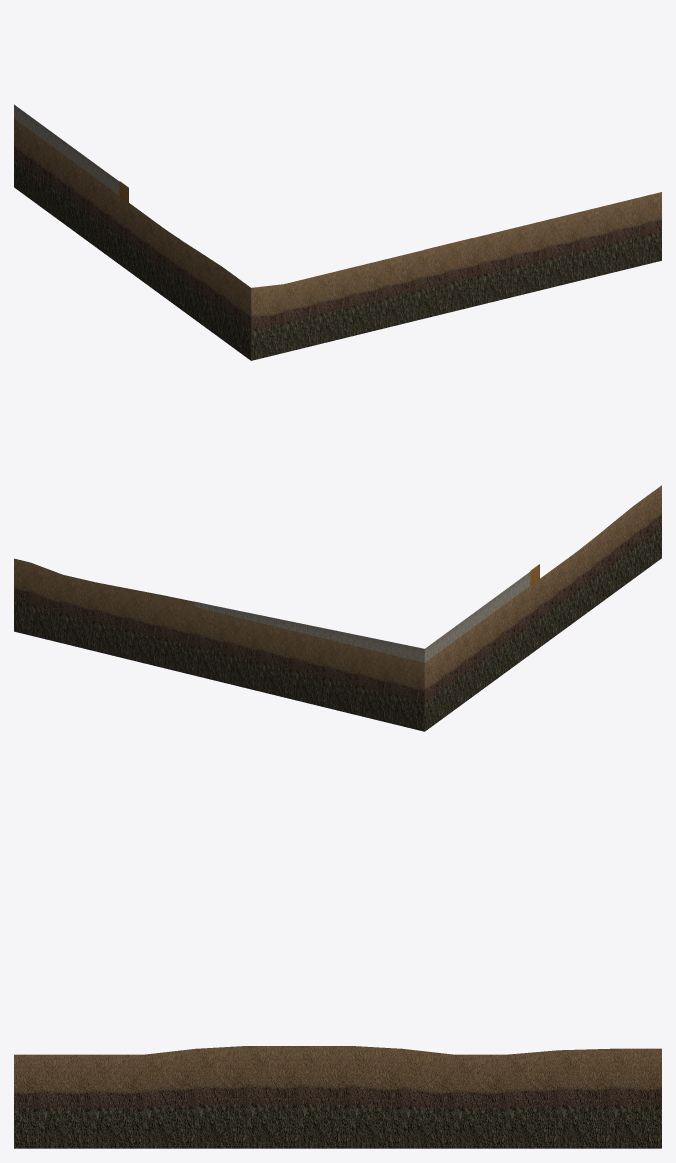
3 views of the same model, one above another, from view 1: azimuth 30°, elevation 25°; view 2: azimuth 150°, elevation 25°; view 3: azimuth 270°, elevation 25° (orthographic). The views are drawn at different scales.
Parts seen in each view (by area): view 1: Joint_0_Object_1, Joint_0_Object_2; view 2: Joint_0_Object_1, Joint_0_Object_2; view 3: Joint_0_Object_1.
Part boxes in pixels (x1,y1,x2,y2): Joint_0_Object_1: (14, 119, 661, 360); Joint_0_Object_2: (14, 104, 119, 195); Joint_0_Object_1: (14, 485, 661, 731); Joint_0_Object_2: (194, 572, 530, 662); Joint_0_Object_1: (14, 1046, 661, 1148).
Bounding box in the file's own units: 10000 × 1949 × 10000.
Materials: 3 (3 with a texture image).
